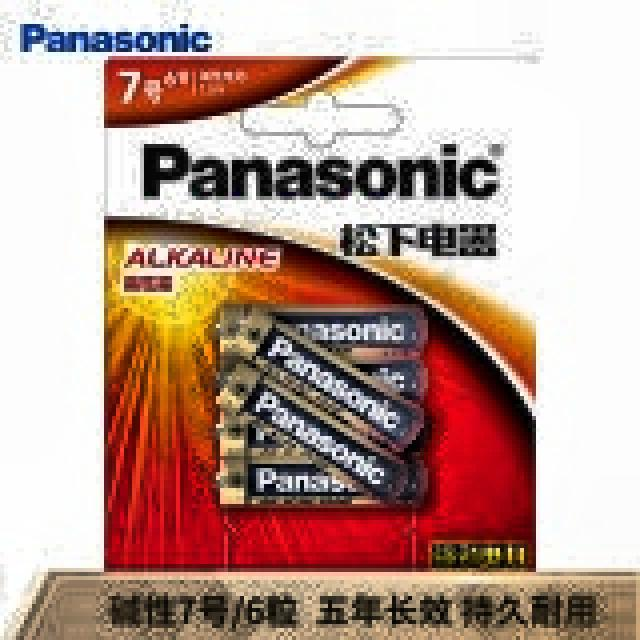Non-Valuable Waste - Batteries: (218, 306, 428, 505)
